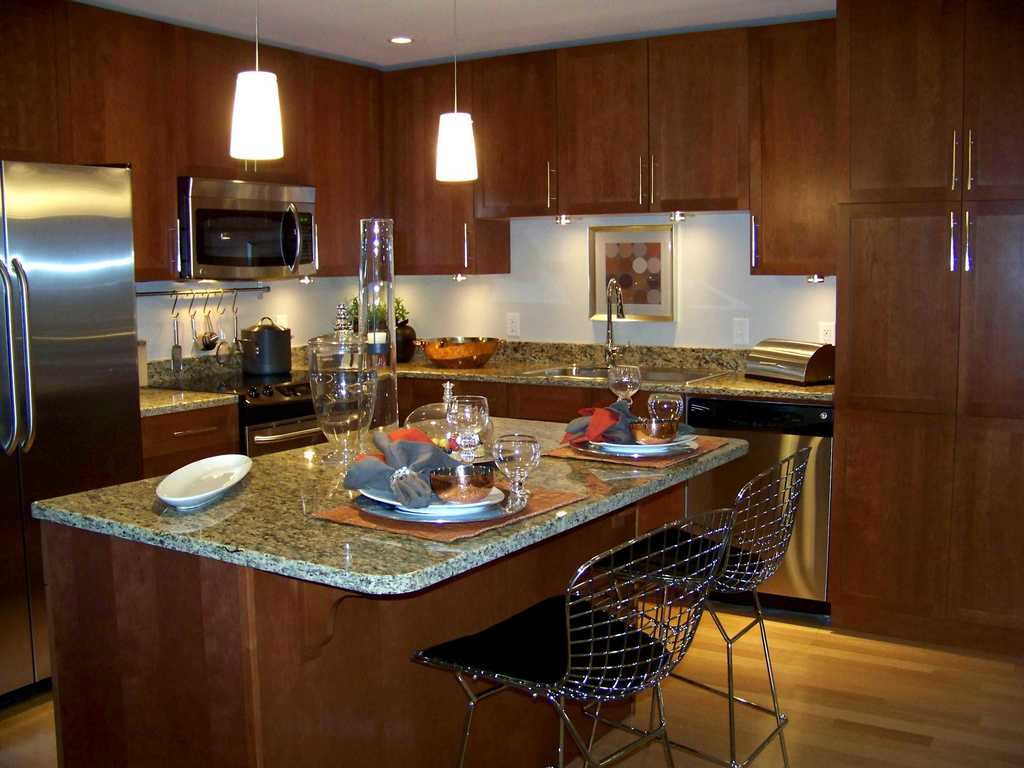cabinet door: (84, 29, 185, 259), (845, 13, 963, 207), (840, 215, 958, 401), (751, 32, 840, 272), (647, 41, 751, 210), (312, 68, 390, 267), (555, 54, 648, 212), (398, 83, 476, 265), (963, 210, 1024, 403), (477, 71, 551, 215), (966, 29, 1024, 196), (147, 421, 230, 450)
handle: (6, 263, 49, 442), (0, 266, 29, 449), (252, 420, 312, 447), (957, 209, 978, 274), (286, 212, 307, 271), (959, 127, 979, 186), (743, 214, 763, 273), (174, 421, 221, 445), (628, 155, 647, 210), (942, 212, 958, 276), (539, 155, 555, 212), (946, 127, 959, 191), (646, 150, 660, 209), (461, 222, 476, 266)
refrigerator door: (13, 174, 136, 486)
